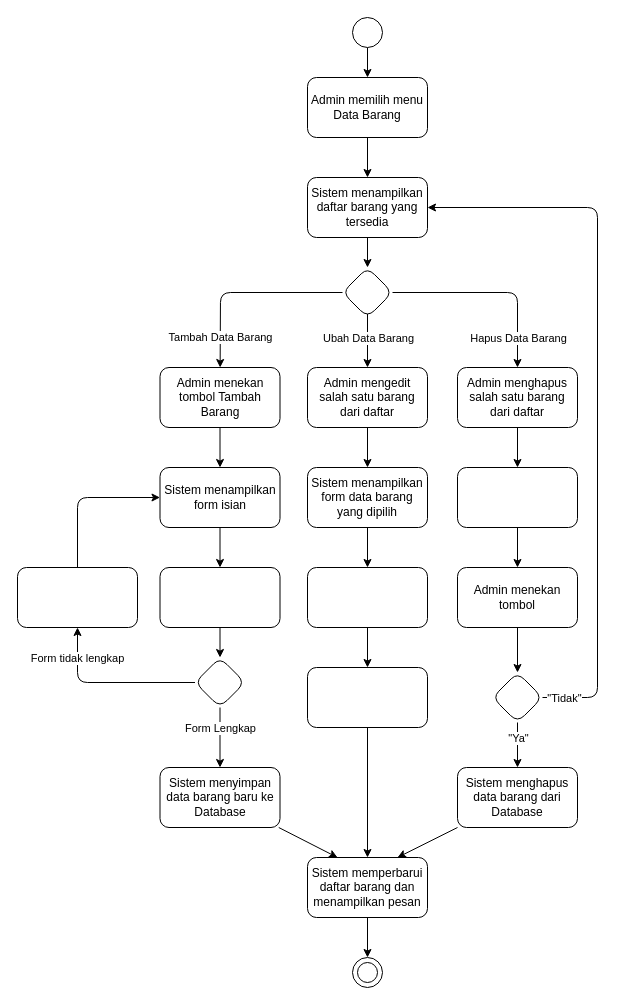
This 623x1005 diagram has some shape labels left out. Each missing label, with the box of its shape:
Admin mengisi form isian dan menekan tombol simpan: (159, 566, 280, 628)
Admin mengubah data yang diperlukan lalu tekan simpan: (306, 566, 428, 628)
Sistem memperbarui data barang di Database: (306, 666, 428, 728)
Sistem menampilkan dialog konfirmasi (pesan): (456, 466, 578, 528)
Sistem menampilkan pesan peringatan: (16, 566, 138, 628)
